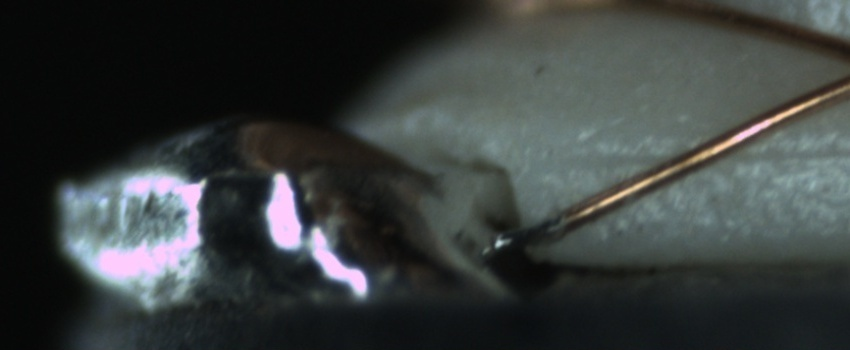CL: (833, 34, 850, 94)
DL: (566, 125, 847, 187)
TS: (480, 212, 556, 257)
TTCW: (482, 208, 578, 255)
